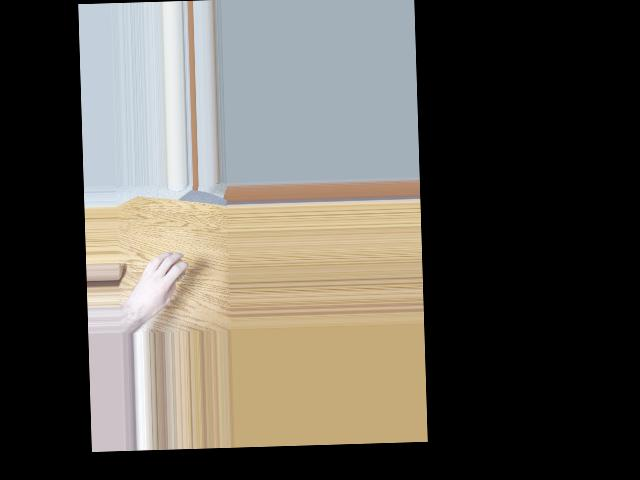onion: (161, 257, 185, 283)
